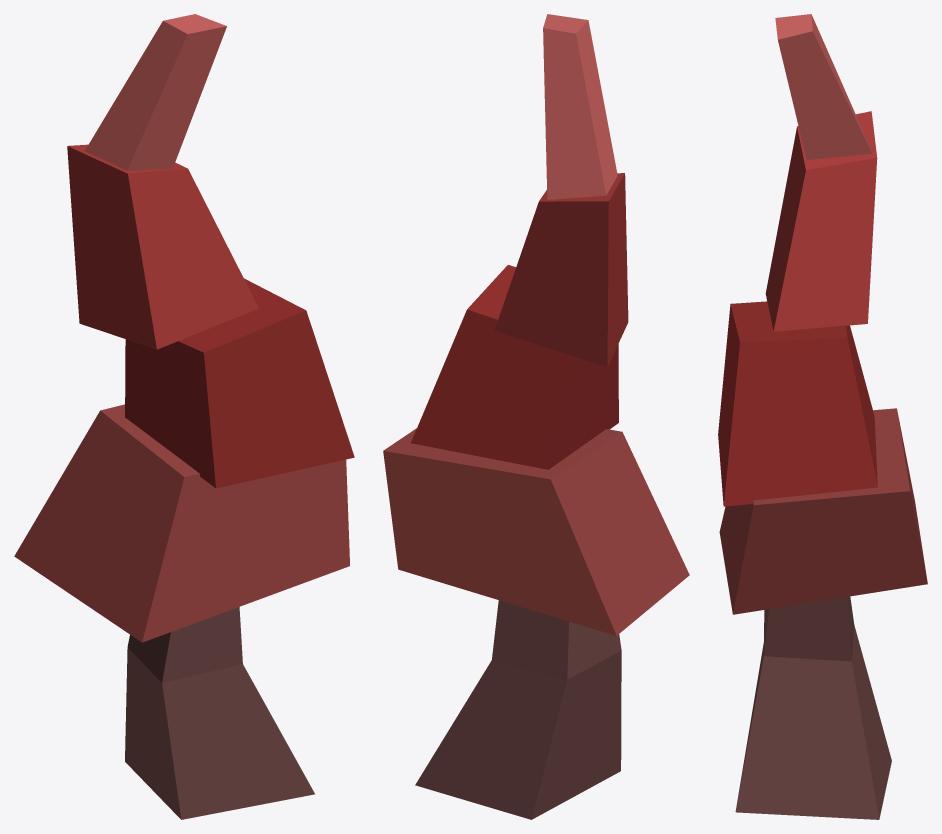
Rendered from RAS_Tree05.fbx.
3 views of the same model, side by side, from view 1: azimuth 30°, elevation 25°; view 2: azimuth 150°, elevation 25°; view 3: azimuth 270°, elevation 25° (orthographic). The views are drawn at different scales.
Visible parts, largest first — view 1: RAS_Tree05; view 2: RAS_Tree05; view 3: RAS_Tree05.
Boxes of the visible parts, x1,y1,x2,y2 form: RAS_Tree05: [14, 14, 354, 819]; RAS_Tree05: [383, 14, 689, 819]; RAS_Tree05: [718, 14, 927, 819].
Size of the model in its own units: 70.71 by 211 by 53.76.
1 material, 1 textured.
